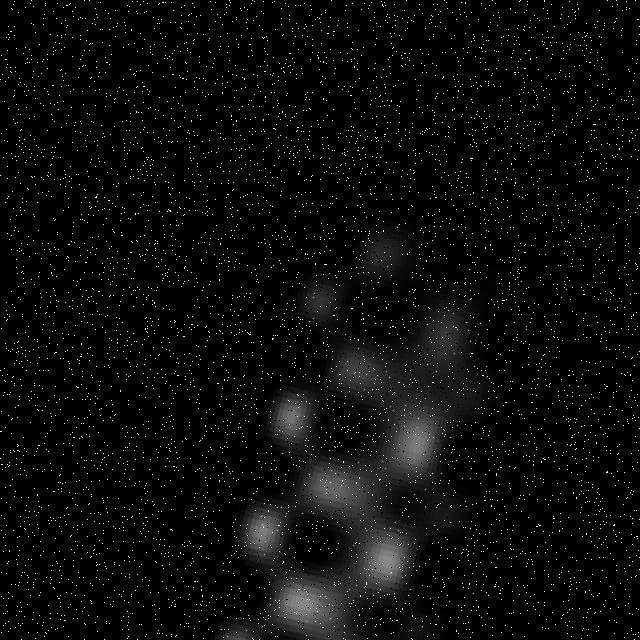person: (174, 178, 593, 640)
